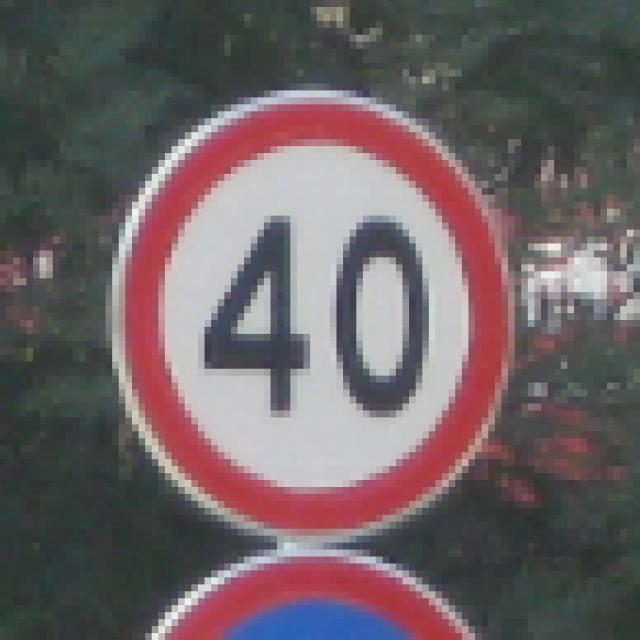Speed: (118, 88, 518, 546)
